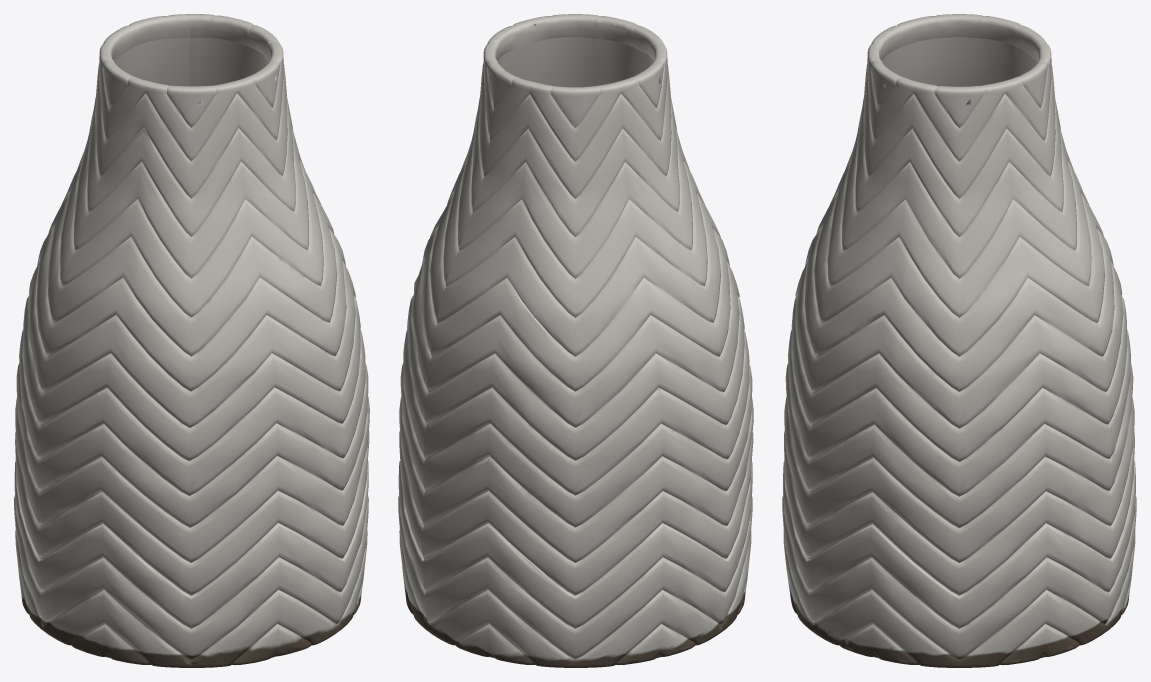
3 renders of one model, left to right at view 1: azimuth 30°, elevation 25°; view 2: azimuth 150°, elevation 25°; view 3: azimuth 270°, elevation 25°, orthographic.
Parts seen in each view (by area): view 1: vase_laura_obj_cleaner_materialmerger_gles; view 2: vase_laura_obj_cleaner_materialmerger_gles; view 3: vase_laura_obj_cleaner_materialmerger_gles.
Part boxes in pixels (bbox=[...]): vase_laura_obj_cleaner_materialmerger_gles: bbox=[14, 14, 369, 667]; vase_laura_obj_cleaner_materialmerger_gles: bbox=[398, 14, 753, 667]; vase_laura_obj_cleaner_materialmerger_gles: bbox=[782, 14, 1136, 667].
Size of the model in its own units: 2.08 by 3.51 by 2.07.
1 material, 1 textured.
